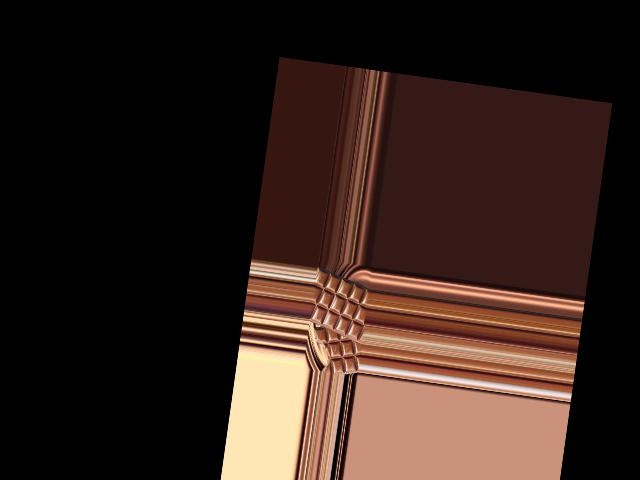chocolate: (308, 265, 372, 344)
